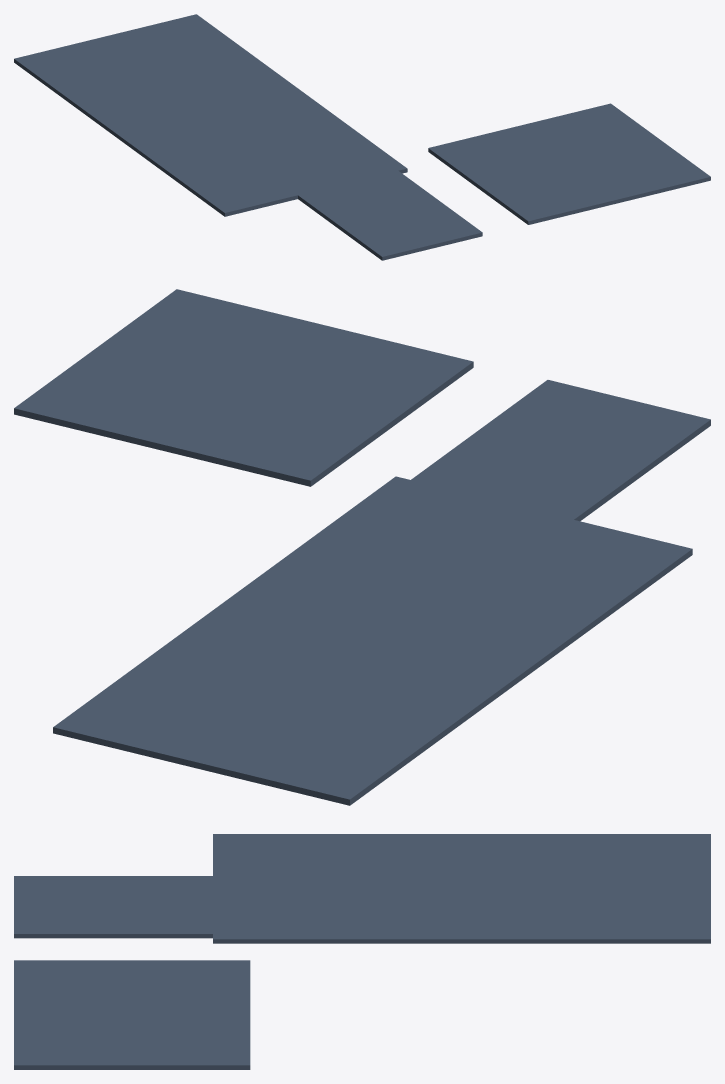
Rendered from floor_geometry.obj.
The picture shows the model from 3 angles, top to bottom: view 1: azimuth 30°, elevation 25°; view 2: azimuth 150°, elevation 25°; view 3: azimuth 270°, elevation 25°; orthographic projection. The views are drawn at different scales.
Parts seen in each view (by area): view 1: Floor_001_f_cb9e415c65, Floor_013_f_3fd42b9228, Floor_005_f_d67fccc268, Floor_003_f_5e215fec16, Floor_007_f_c790c27c79, Floor_014_f_d9f2ae14ee, Floor_012_f_ceed557a26; view 2: Floor_001_f_cb9e415c65, Floor_013_f_3fd42b9228, Floor_005_f_d67fccc268, Floor_003_f_5e215fec16, Floor_007_f_c790c27c79, Floor_014_f_d9f2ae14ee, Floor_012_f_ceed557a26; view 3: Floor_013_f_3fd42b9228, Floor_001_f_cb9e415c65, Floor_005_f_d67fccc268, Floor_003_f_5e215fec16, Floor_012_f_ceed557a26, Floor_007_f_c790c27c79, Floor_014_f_d9f2ae14ee, Floor_008_f_c790c27c79, Floor_002_f_cb9e415c65, Floor_006_f_d67fccc268, Floor_004_f_5e215fec16.
Boxes of the visible parts, x1,y1,x2,y2 form: Floor_001_f_cb9e415c65: (14,24,231,116); Floor_013_f_3fd42b9228: (428,103,668,193); Floor_005_f_d67fccc268: (154,126,367,216); Floor_003_f_5e215fec16: (89,78,297,164); Floor_007_f_c790c27c79: (298,171,479,260); Floor_014_f_d9f2ae14ee: (486,146,710,224); Floor_012_f_ceed557a26: (163,14,407,176); Floor_001_f_cb9e415c65: (117,654,471,805); Floor_013_f_3fd42b9228: (14,339,404,486); Floor_005_f_d67fccc268: (345,492,692,638); Floor_003_f_5e215fec16: (239,576,577,716); Floor_007_f_c790c27c79: (415,380,710,521); Floor_014_f_d9f2ae14ee: (108,289,473,417); Floor_012_f_ceed557a26: (53,476,450,746); Floor_013_f_3fd42b9228: (113,960,250,1069); Floor_001_f_cb9e415c65: (534,834,710,916); Floor_005_f_d67fccc268: (213,834,379,916); Floor_003_f_5e215fec16: (380,834,534,916); Floor_012_f_ceed557a26: (213,919,710,943); Floor_007_f_c790c27c79: (14,876,212,932); Floor_014_f_d9f2ae14ee: (14,960,113,1069); Floor_008_f_c790c27c79: (14,932,212,938); Floor_002_f_cb9e415c65: (534,916,710,918); Floor_006_f_d67fccc268: (213,916,379,918); Floor_004_f_5e215fec16: (380,916,534,918).
Size of the model in its own units: 22 by 0.2 by 28.
